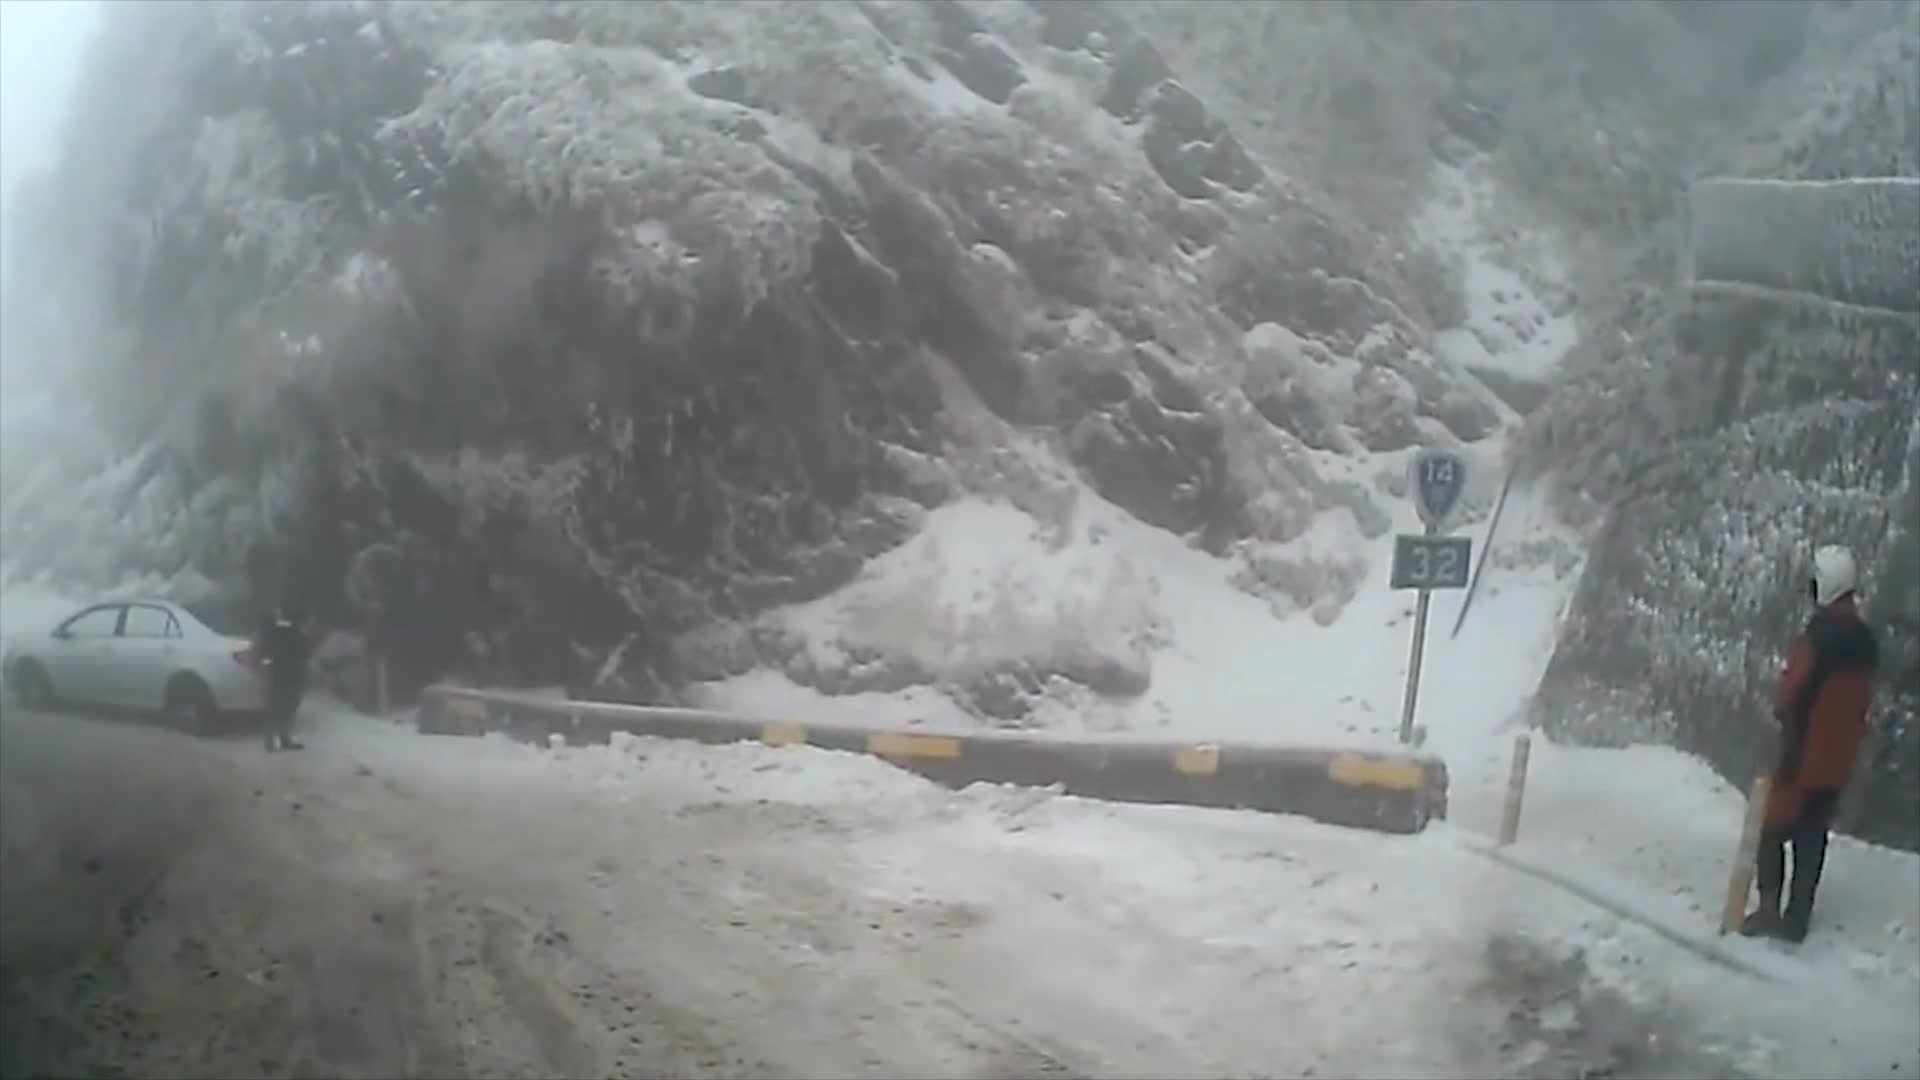pedestrian: (1741, 548, 1886, 941), (258, 599, 313, 756)
vehicle: (2, 596, 289, 738)
